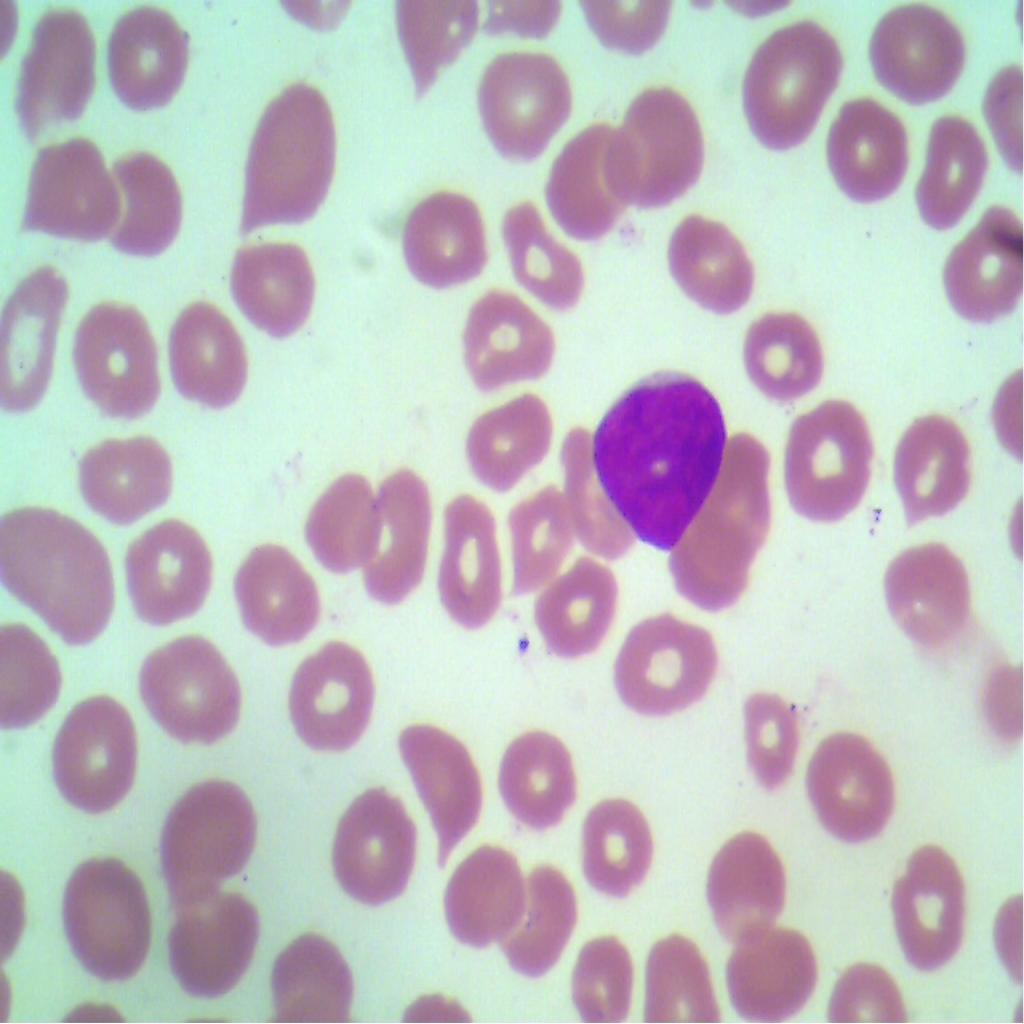Eritrosit: (675, 429, 778, 627), (0, 492, 119, 650), (739, 23, 853, 172), (232, 77, 342, 225), (816, 79, 918, 228), (449, 278, 573, 398), (320, 765, 418, 914), (873, 544, 988, 669), (419, 835, 538, 952), (278, 621, 378, 758), (69, 298, 168, 434), (56, 854, 159, 984), (44, 694, 144, 824), (158, 771, 262, 895), (862, 1, 972, 118), (779, 397, 874, 532), (886, 838, 978, 977), (396, 718, 488, 857), (606, 610, 720, 722), (471, 45, 581, 161), (666, 202, 772, 322), (426, 485, 508, 638), (346, 461, 429, 611), (100, 1, 198, 127), (144, 634, 248, 752), (608, 85, 708, 207), (126, 504, 219, 634), (170, 884, 268, 1007), (808, 728, 902, 856), (11, 0, 101, 131), (936, 195, 1023, 329), (526, 550, 622, 671), (0, 264, 73, 422), (494, 864, 588, 986), (102, 151, 195, 268), (546, 117, 635, 239), (700, 824, 798, 932), (233, 541, 319, 664), (893, 404, 978, 527), (498, 718, 580, 844), (726, 674, 808, 799), (728, 914, 822, 1023), (26, 140, 119, 250), (553, 432, 631, 561), (74, 437, 186, 525), (296, 454, 381, 568), (393, 188, 488, 290), (226, 241, 320, 344), (738, 298, 826, 408), (166, 301, 248, 418), (504, 201, 593, 308), (451, 391, 554, 482), (580, 788, 662, 902), (561, 925, 656, 1023), (916, 111, 990, 235), (268, 932, 358, 1023), (493, 477, 566, 588), (0, 618, 68, 732), (633, 931, 716, 1023)
Limfoblast: (588, 361, 729, 558)
Platelet: (510, 618, 541, 664)
